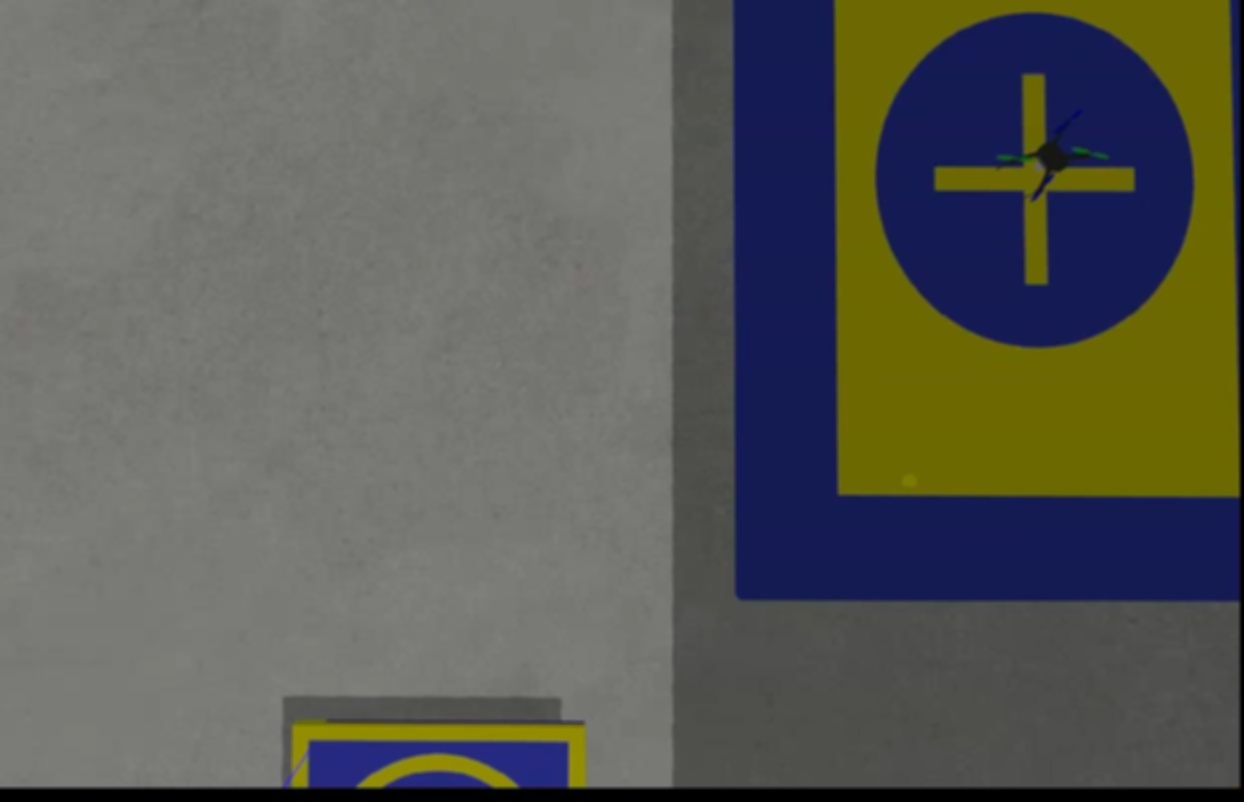large_base: (736, 1, 1244, 597)
small_base: (290, 726, 583, 792)
